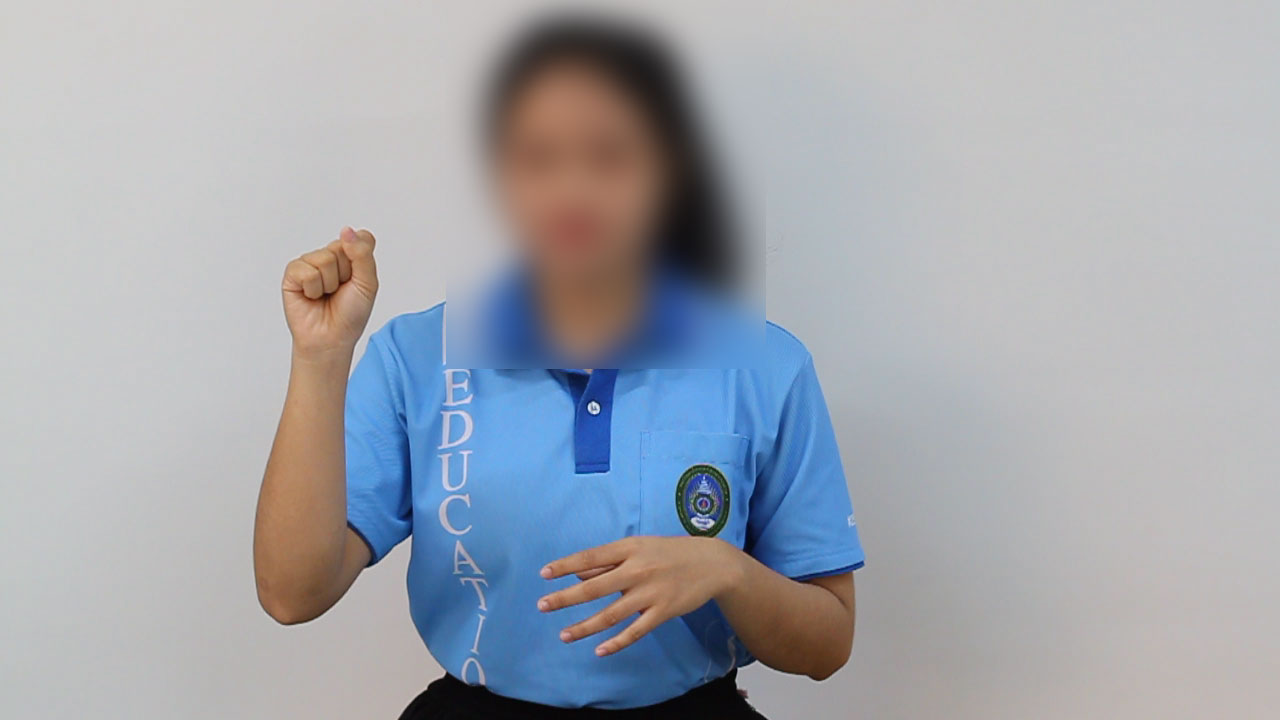sor: (252, 212, 395, 365)
